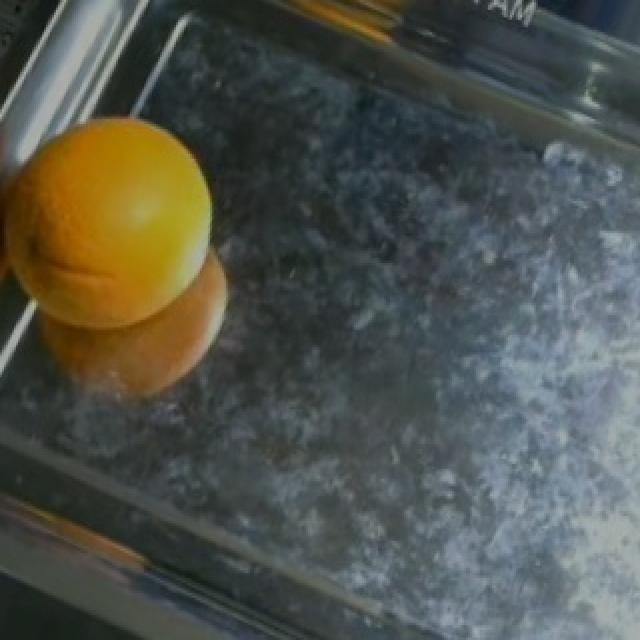Fruit: (0, 99, 252, 427)
